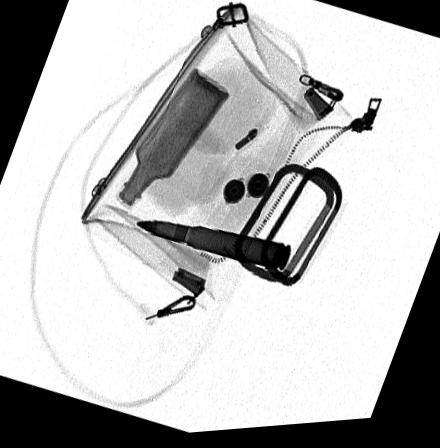Bullet: (132, 220, 292, 276)
